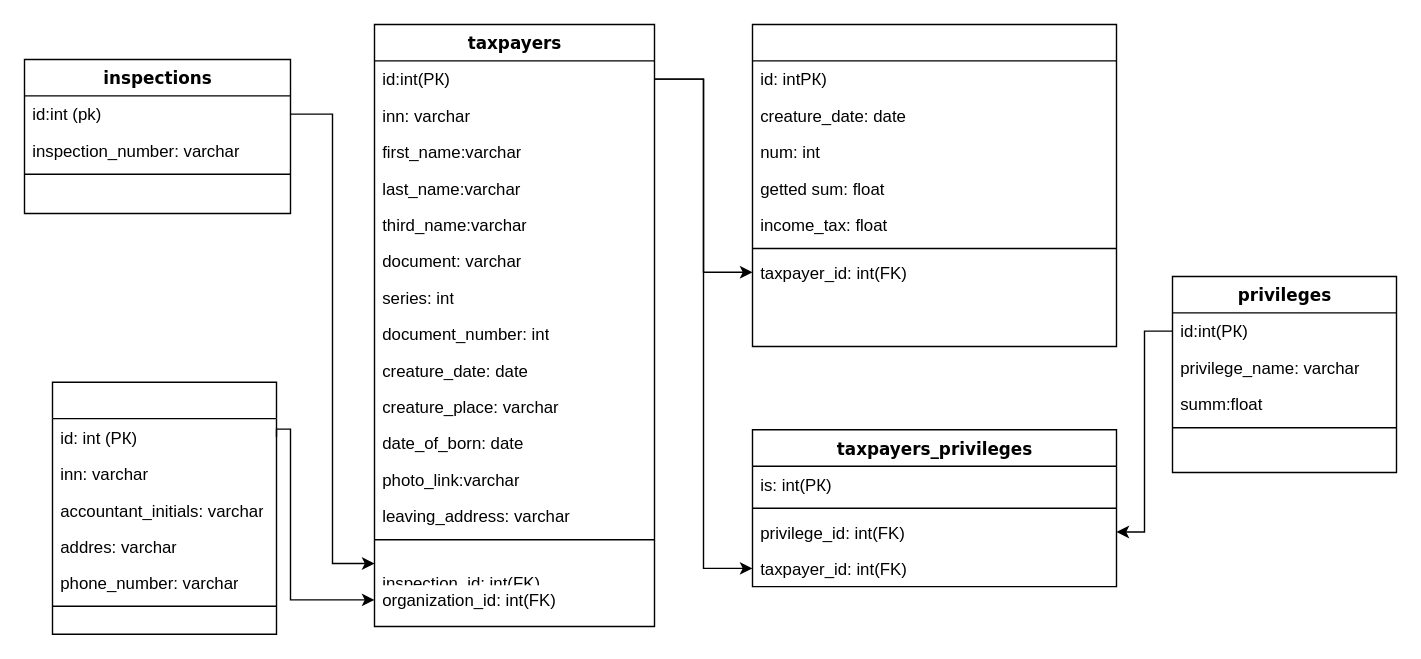
The diagram is 1421 pixels wide and 659 high, and some of its shapes have lost their labels. The shapes that lost their labels are listed below. From the top down, each one's box as (x1, y1, x2, y2) in pixels, then its label:
(751, 23, 1116, 346): declarations
(51, 381, 276, 634): organizations
